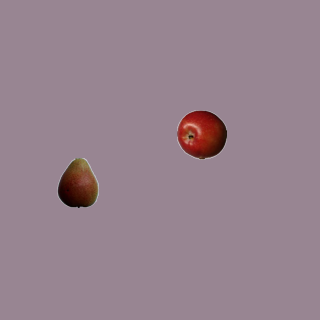Apple Braeburn: (176, 109, 226, 159)
Pear Forelle: (52, 157, 102, 207)
